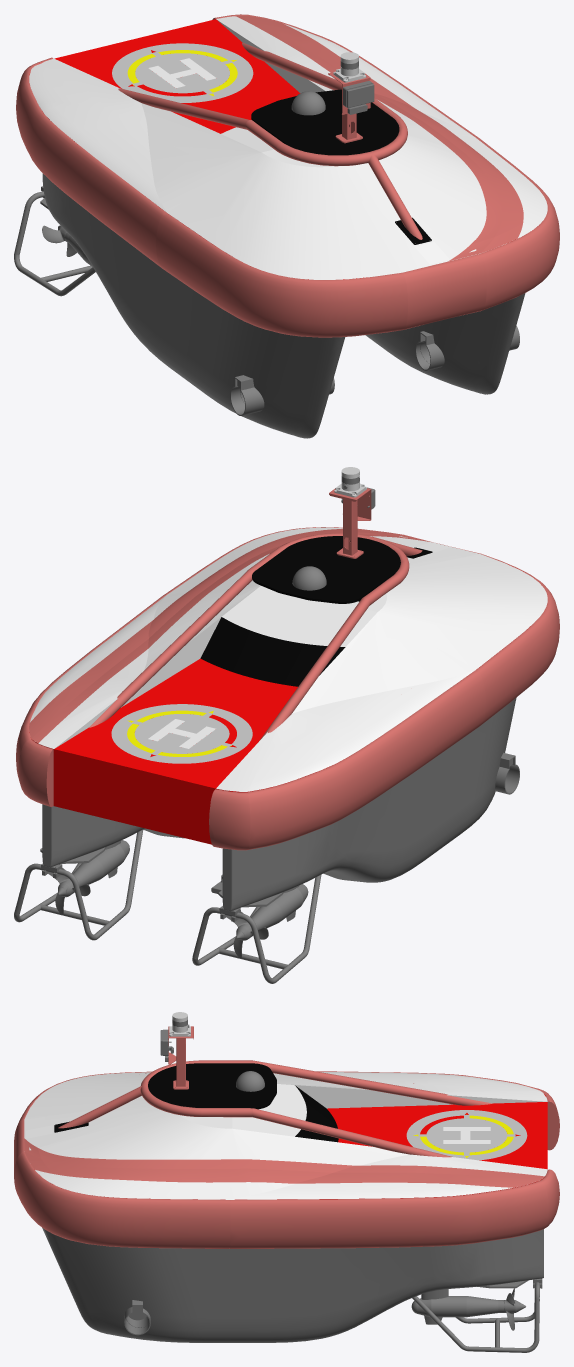
File: usv.glb
3 renders of one model, top to bottom at view 1: azimuth 30°, elevation 25°; view 2: azimuth 150°, elevation 25°; view 3: azimuth 270°, elevation 25°, orthographic. The views are drawn at different scales.
Parts seen in each view (by area): view 1: cf5f5f5, caa2925, c363636, cff0000, c000000, c9b9b9b, cfffe00, cb1b1b1; view 2: cf5f5f5, caa2925, c363636, cff0000, c000000, c9b9b9b, cfffe00; view 3: caa2925, c363636, cf5f5f5, cff0000, c000000, c9b9b9b, cfffe00.
Part boxes in pixels (x1,y1,x2,y2): cf5f5f5: (29,16,547,279); caa2925: (16,14,559,337); c363636: (14,61,525,438); cff0000: (38,19,539,279); c000000: (251,89,431,244); c9b9b9b: (112,43,253,102); cfffe00: (127,50,237,96); cb1b1b1: (333,52,366,82); cf5f5f5: (30,527,547,791); caa2925: (16,488,559,850); c363636: (14,476,519,983); cff0000: (29,527,541,844); c000000: (200,536,432,686); c9b9b9b: (111,704,252,763); cfffe00: (127,710,231,756); caa2925: (14,1026,559,1248); c363636: (42,1019,543,1352); cf5f5f5: (24,1072,547,1199); cff0000: (32,1094,547,1199); c000000: (54,1063,338,1142); c9b9b9b: (406,1110,527,1160); cfffe00: (413,1114,513,1157).
Bounding box in the file's own units: 0.5959 × 0.575 × 1.
